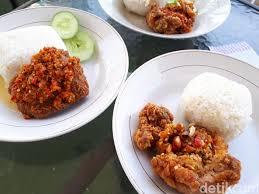ayam_geprek: (130, 104, 239, 187), (9, 47, 91, 115)
